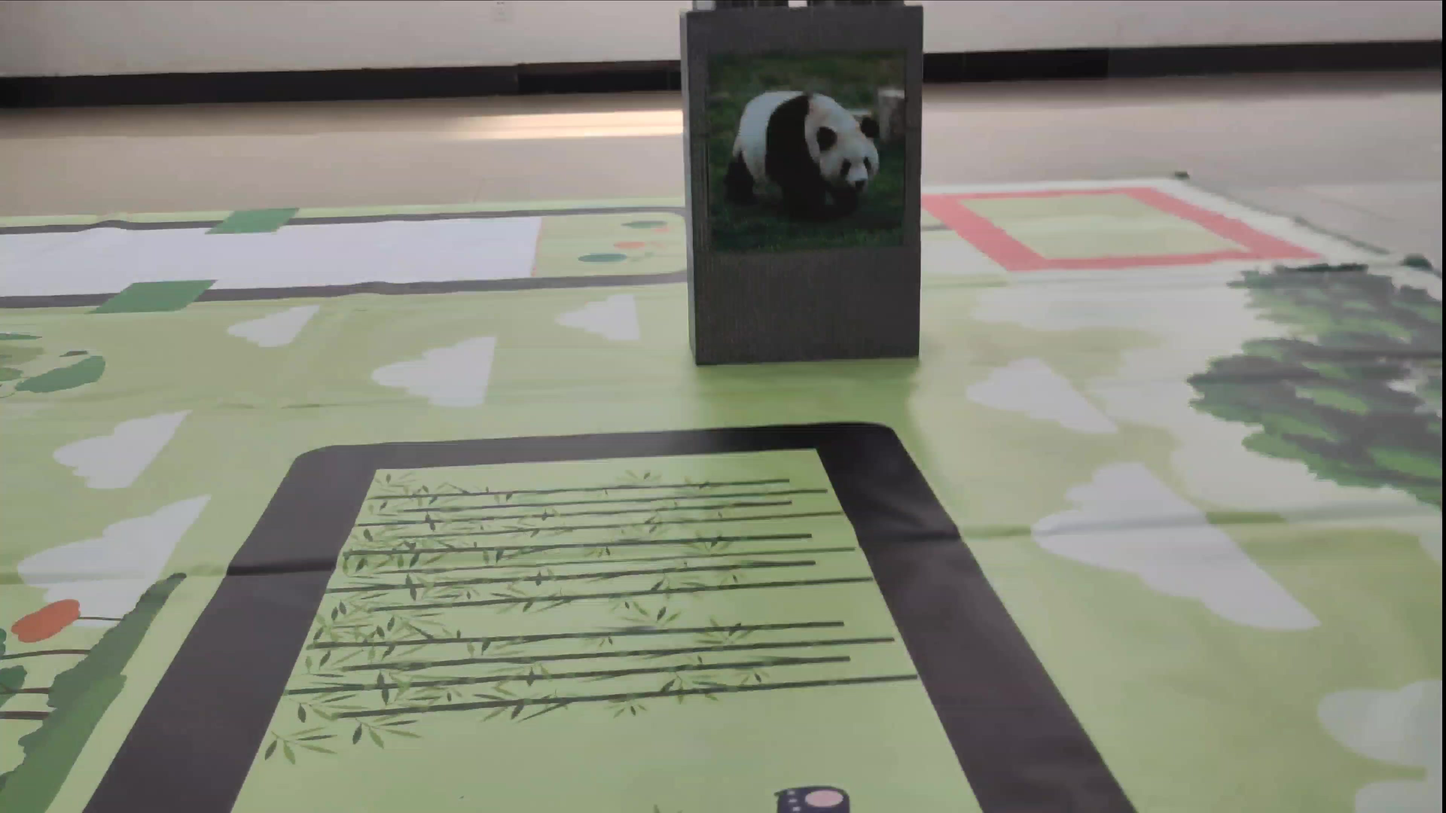panda: (723, 67, 912, 262)
